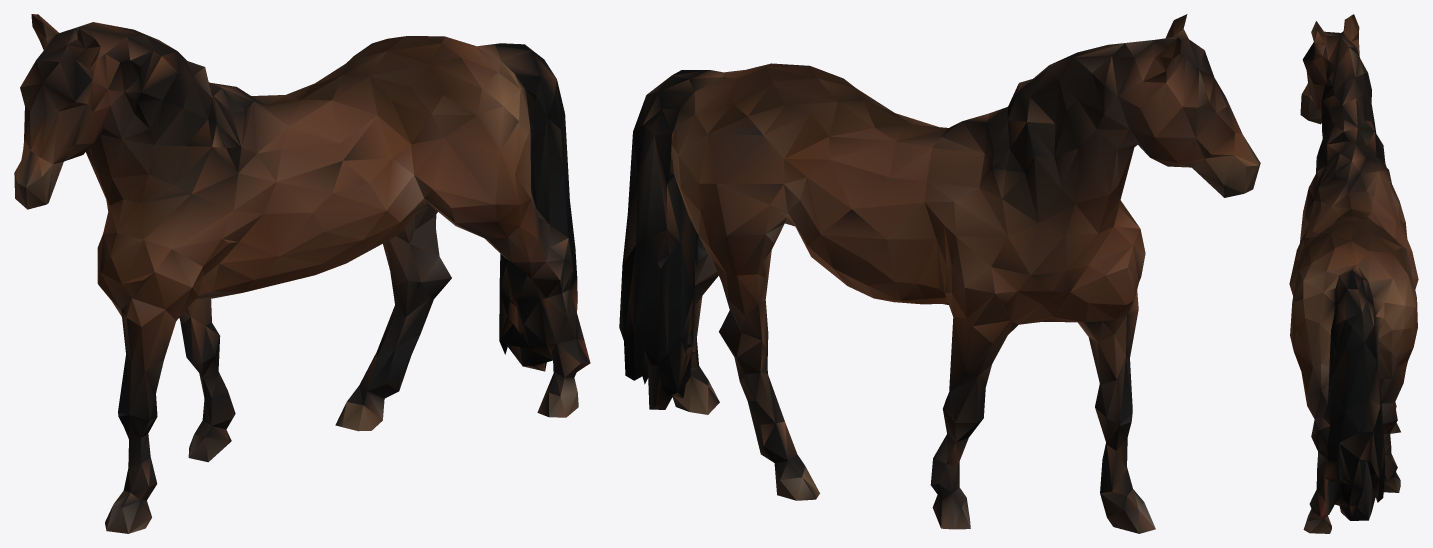
The model's file is horse_walk_a.glb.
The picture shows the model from 3 angles, left to right: view 1: azimuth 30°, elevation 25°; view 2: azimuth 150°, elevation 25°; view 3: azimuth 270°, elevation 25°; orthographic projection. The views are drawn at different scales.
Parts seen in each view (by area): view 1: horse_walk_a; view 2: horse_walk_a; view 3: horse_walk_a.
Boxes of the visible parts, x1,y1,x2,y2 form: horse_walk_a: (14,14,590,533); horse_walk_a: (619,14,1260,533); horse_walk_a: (1289,14,1418,533).
Bounding box in the file's own units: 7 × 5.92 × 1.94.
